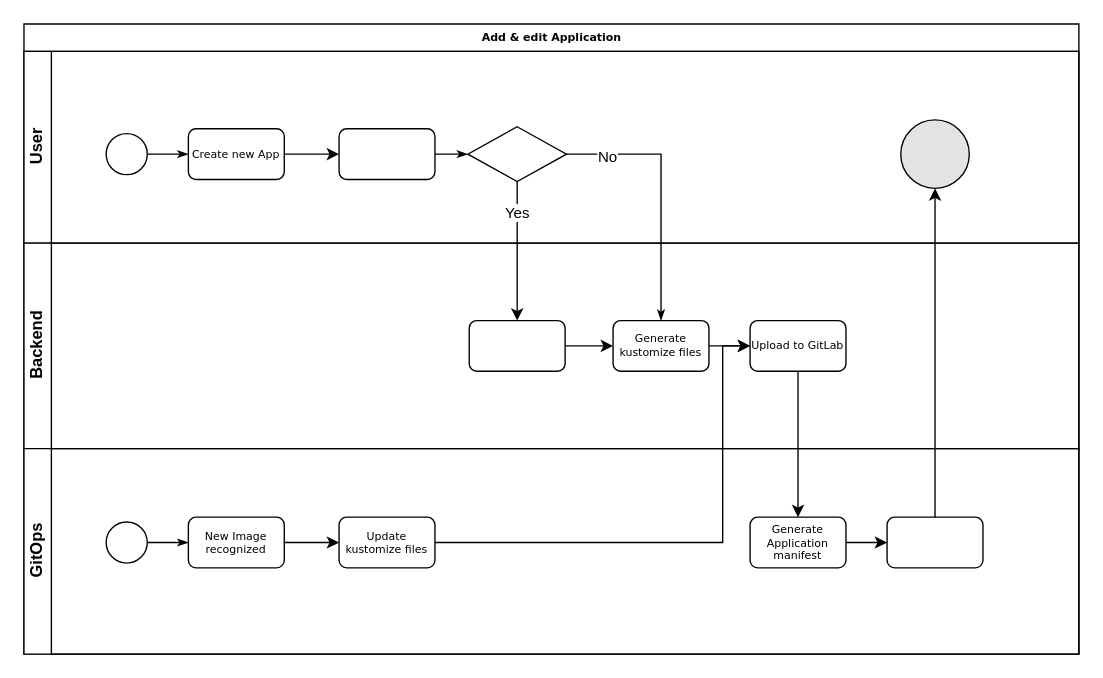
This 1103x678 diagram has some shape labels left out. Here are the shapes that lost their labels. From the top down, the centre of each, then its label:
At point (386, 153): "Input Userdata".
At point (516, 153): "DB needed?".
At point (934, 153): "App deployed".
At point (516, 345): "Add postgres manifest".
At point (934, 542): "Deploy / Sync Application".
